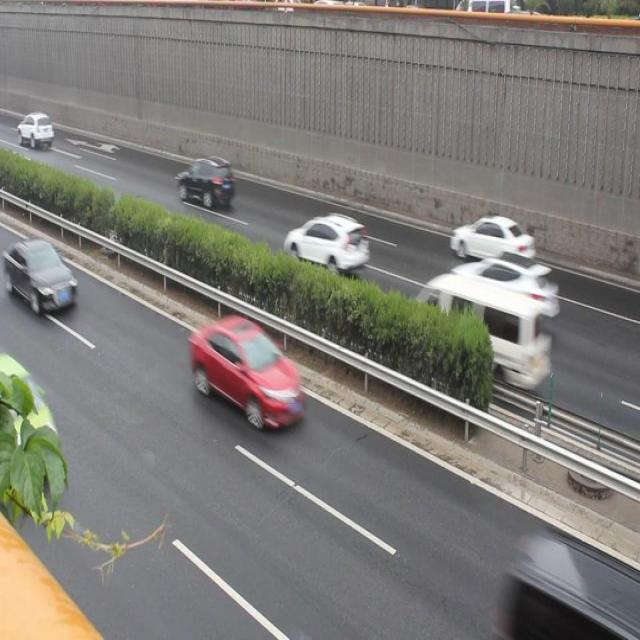car: (189, 314, 307, 433), (1, 352, 66, 487), (448, 248, 558, 318), (1, 228, 78, 315), (288, 208, 367, 278), (447, 206, 529, 267), (174, 151, 232, 212)
truck: (487, 518, 640, 640), (407, 272, 547, 388)
